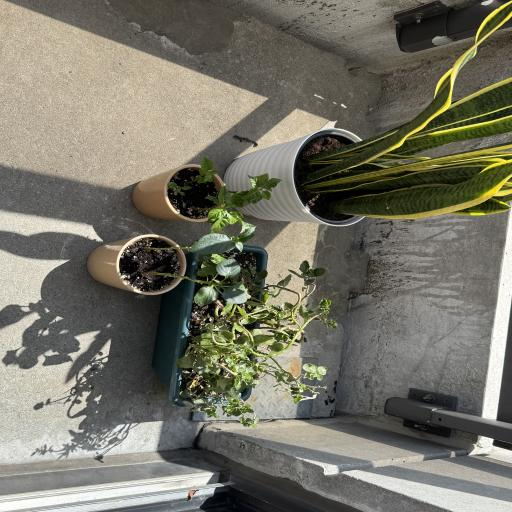Plant Pot: (153, 243, 277, 400), (224, 128, 377, 228), (85, 233, 193, 295), (128, 160, 226, 224)
